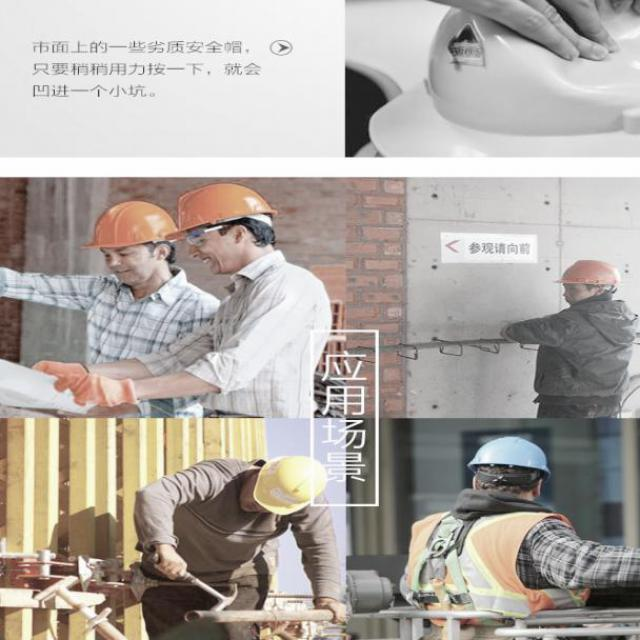gloves: (30, 352, 126, 410)
helmet: (173, 175, 287, 281), (232, 443, 332, 534), (82, 196, 178, 288), (460, 430, 555, 508), (550, 247, 619, 306)
vest: (392, 492, 564, 619)
